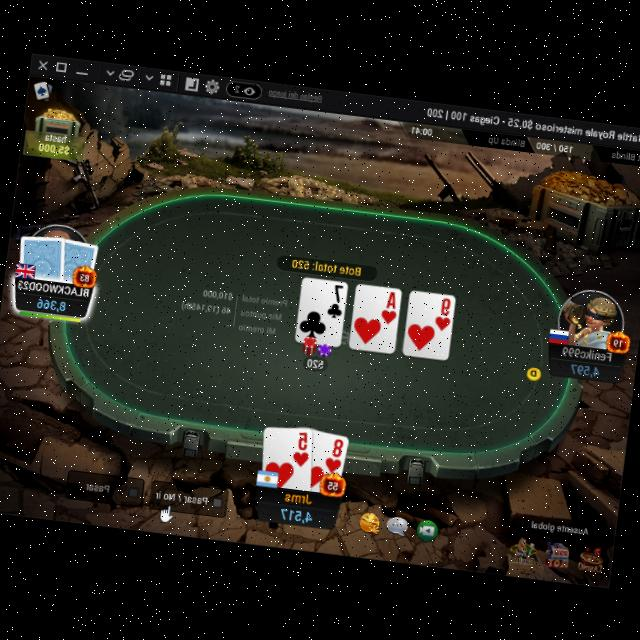5h: (290, 426, 312, 466)
7c: (325, 278, 347, 318)
8h: (323, 432, 345, 472)
9h: (434, 292, 454, 330)
Ah: (379, 286, 400, 323)
bet_text: (304, 353, 326, 368)
card_back: (14, 226, 70, 283), (54, 232, 102, 286)
dealer: (524, 361, 544, 380)
pot_text: (289, 254, 362, 276)
stack_text: (278, 501, 314, 522), (34, 292, 68, 310), (569, 358, 600, 376)
